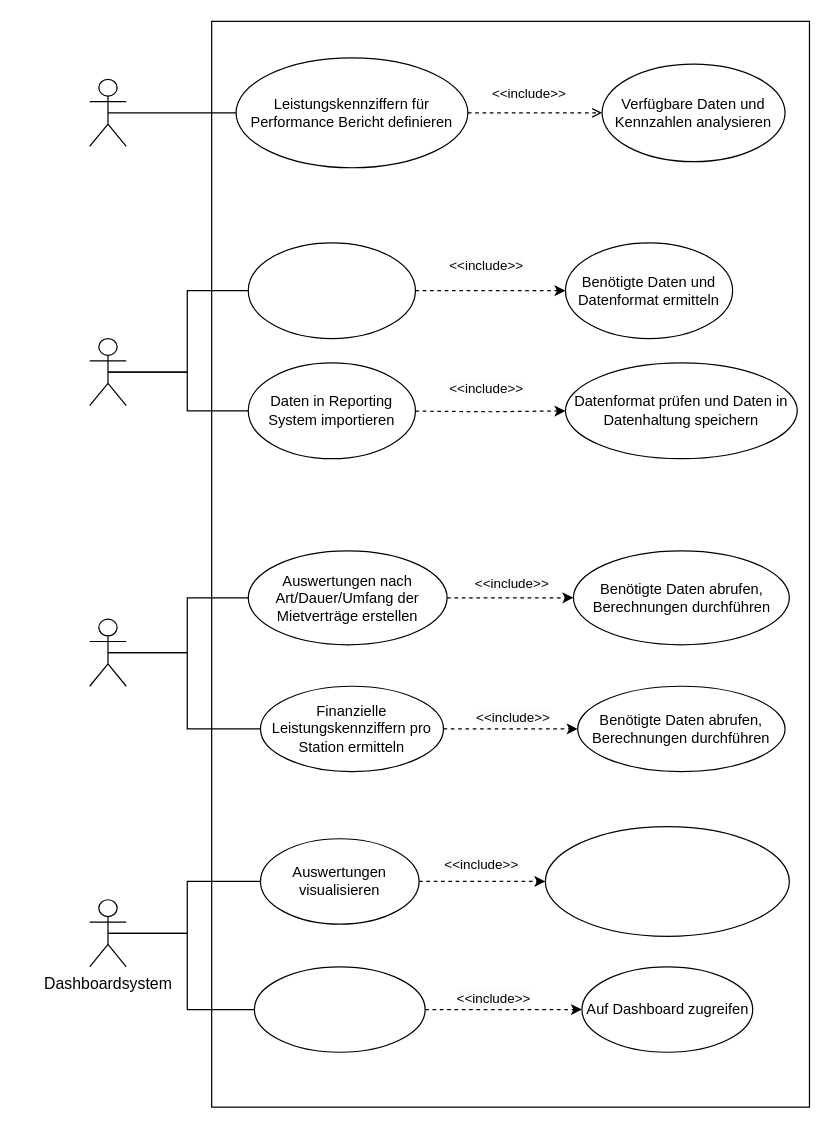
Image size: 831x1129. Some labels were removed from this diagram. Each missing label, with the centre of its shape:
Anbindung an Reporting System herstellen, Visualisierungen definieren: point (666, 880)
Buchungssystem: point (107, 371)
Performance Bericht abrufen: point (339, 1009)
Relevante Daten exportieren: point (331, 290)
Reporting System: point (107, 652)
Unternehmenssteuerung: point (107, 112)
